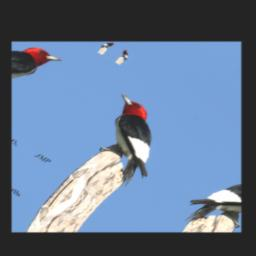Woodpecker: (64, 91, 191, 193)
